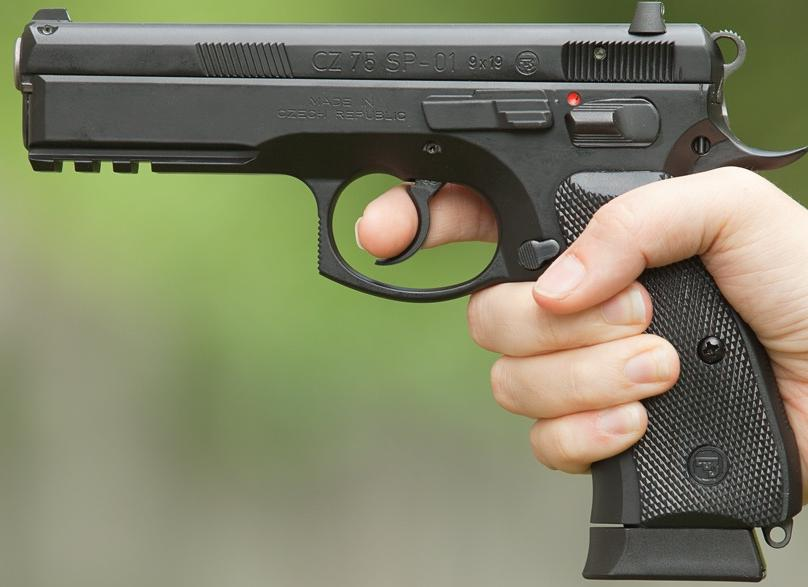gun: (1, 1, 808, 587)
